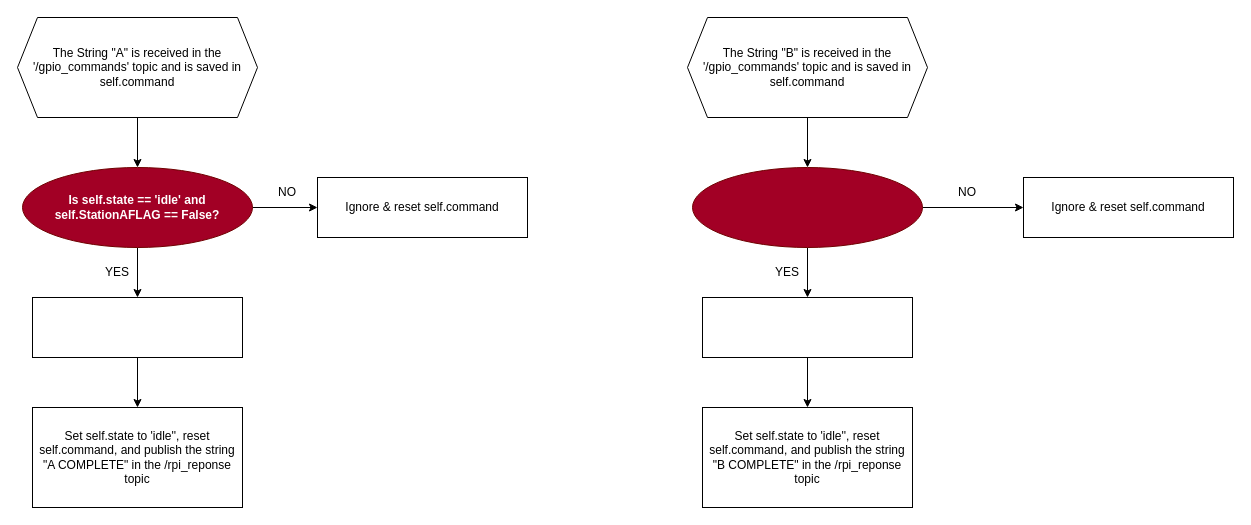
Image size: 1251x525. Some labels were removed from this diagram. The shapes that lost their labels are listed below. From the top down, each one's centre as x and y in pixels, then its label:
the point at 807,207: Is self.state == 'idle' and self.StationBFLAG == False?
the point at 137,327: Call ExecuteStationA() to execute Station A Delivery Sequence
the point at 807,327: Call ExecuteStationB() to execute Station B Delivery Sequence
